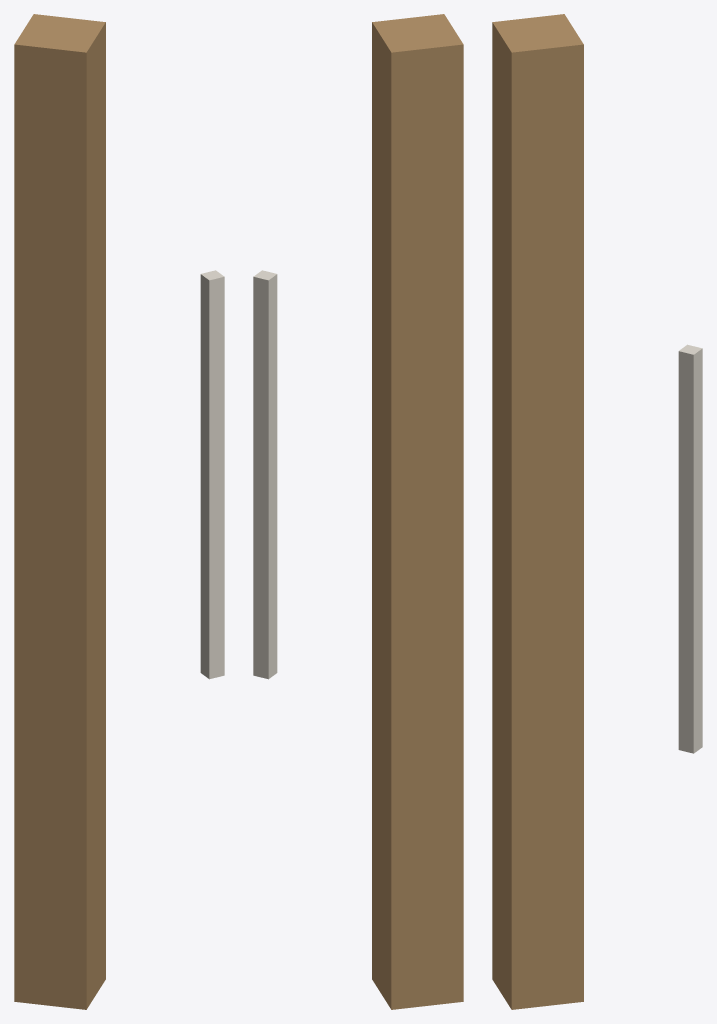
File: bow.glb
3 views of the same model, side by side, from view 1: azimuth 30°, elevation 25°; view 2: azimuth 150°, elevation 25°; view 3: azimuth 330°, elevation 25° (orthographic).
Parts seen in each view (by area): view 1: bow, string; view 2: bow, string; view 3: bow, string.
Boxes of the visible parts, <box> form: bow: <box>14,14,105,1009</box>; string: <box>200,270,224,679</box>; bow: <box>372,14,463,1009</box>; string: <box>253,270,277,679</box>; bow: <box>492,14,583,1009</box>; string: <box>678,344,702,753</box>.
Size of the model in its own units: 0.0135 by 0.06 by 0.006.
